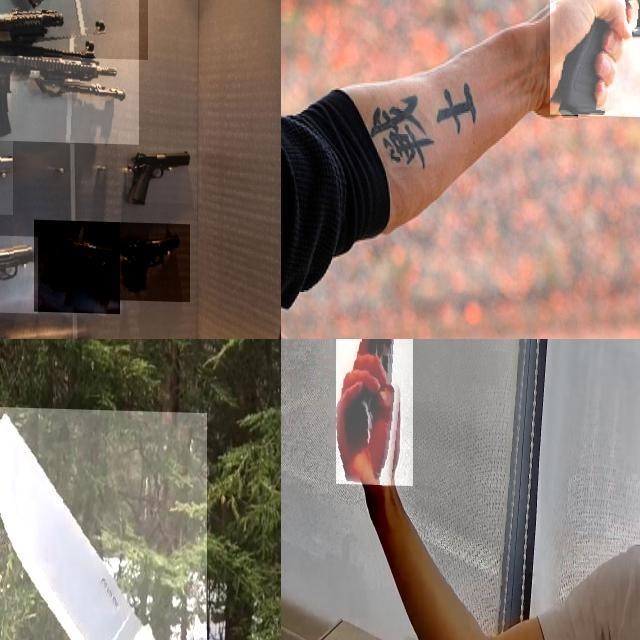-: (0, 405, 207, 640)
gun-knife-thesis - v11 Yolov5 augmented: (0, 0, 163, 142), (0, 0, 149, 96), (336, 339, 413, 486), (550, 0, 640, 115), (34, 218, 120, 312), (118, 128, 202, 200), (115, 220, 190, 299), (0, 128, 50, 237), (0, 247, 55, 332), (0, 235, 41, 335), (0, 233, 38, 311), (0, 137, 34, 213)
